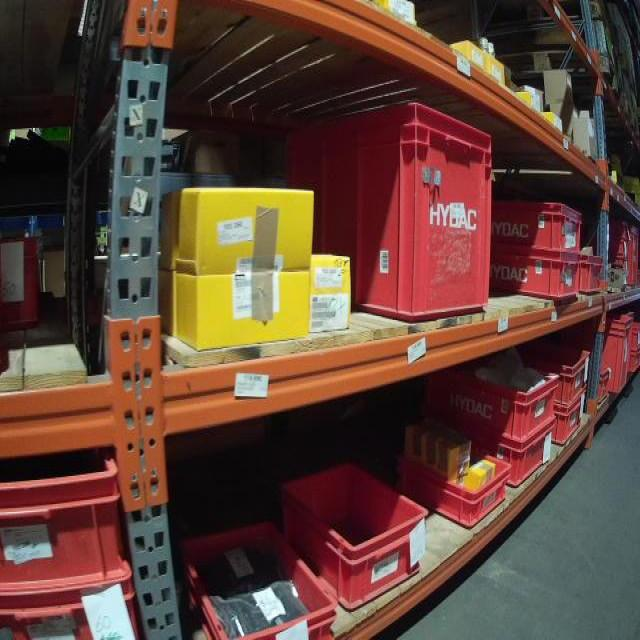pallet: (494, 37, 624, 110), (620, 83, 638, 137)
small_load_carrier: (287, 100, 496, 331), (282, 460, 427, 609), (2, 440, 129, 586), (170, 529, 336, 639), (380, 426, 509, 530), (424, 360, 563, 445), (3, 577, 131, 636), (500, 194, 591, 259), (497, 247, 582, 303), (496, 430, 558, 488), (540, 345, 594, 409), (589, 319, 631, 399), (578, 249, 607, 292), (602, 210, 631, 241), (628, 221, 640, 293), (564, 406, 586, 441), (603, 235, 631, 256), (606, 255, 624, 279), (628, 317, 639, 347), (631, 349, 638, 369)
